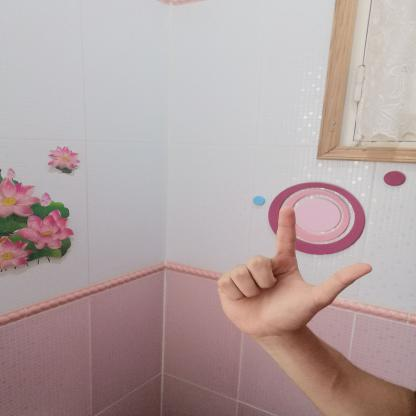LAAM: (207, 198, 383, 344)
